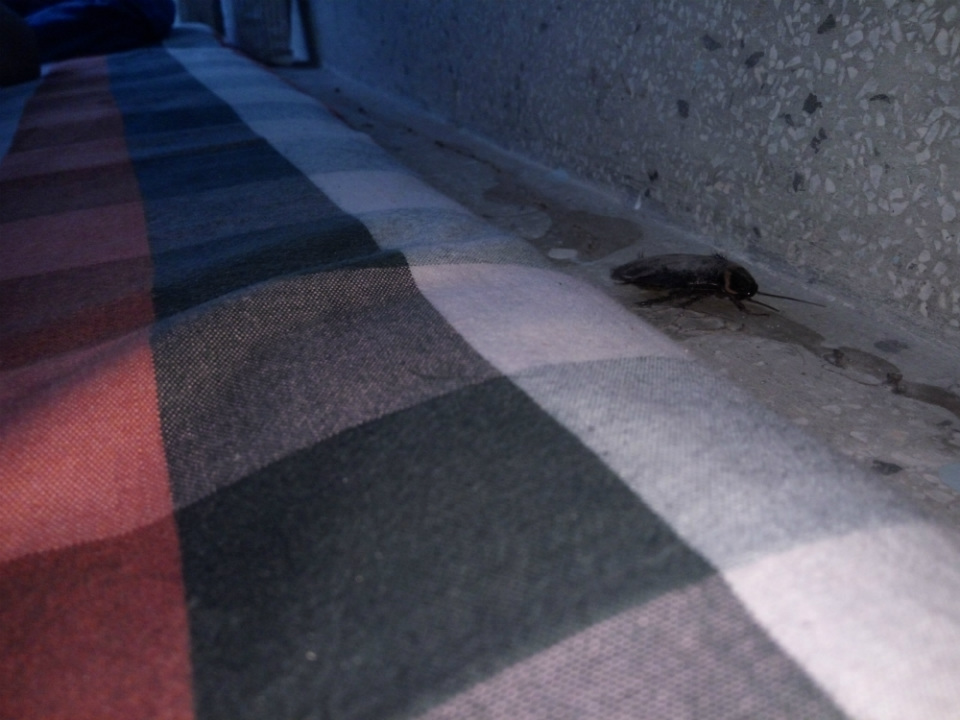cockroach: (606, 225, 814, 341)
